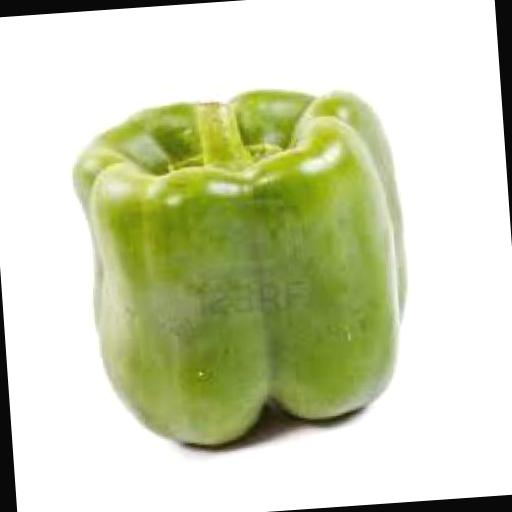biodegradable: (60, 79, 415, 456)
